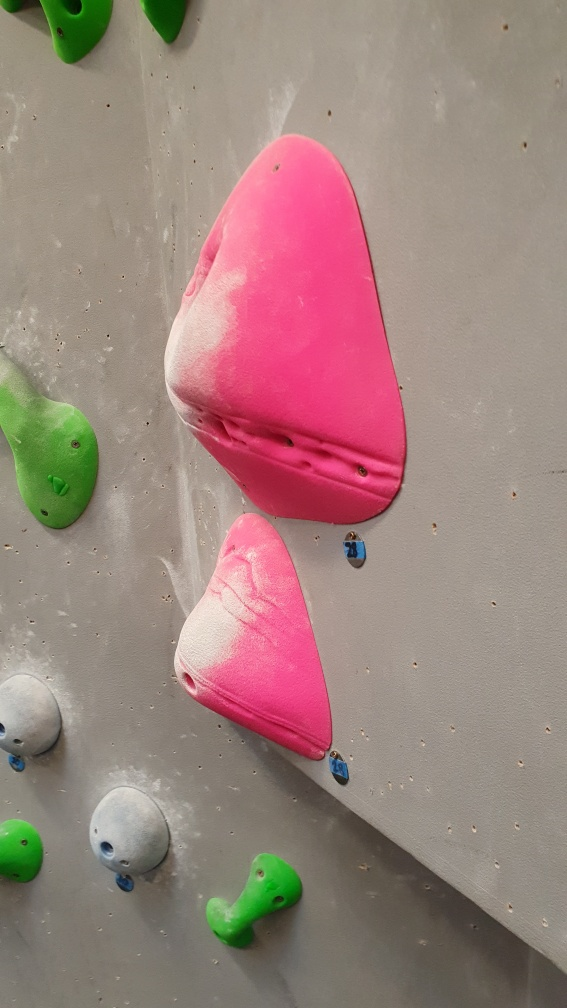Hand Start: (337, 526, 375, 573), (323, 747, 358, 790), (4, 747, 34, 772), (111, 868, 138, 894)
Sloper: (92, 781, 174, 872), (1, 671, 67, 765)
